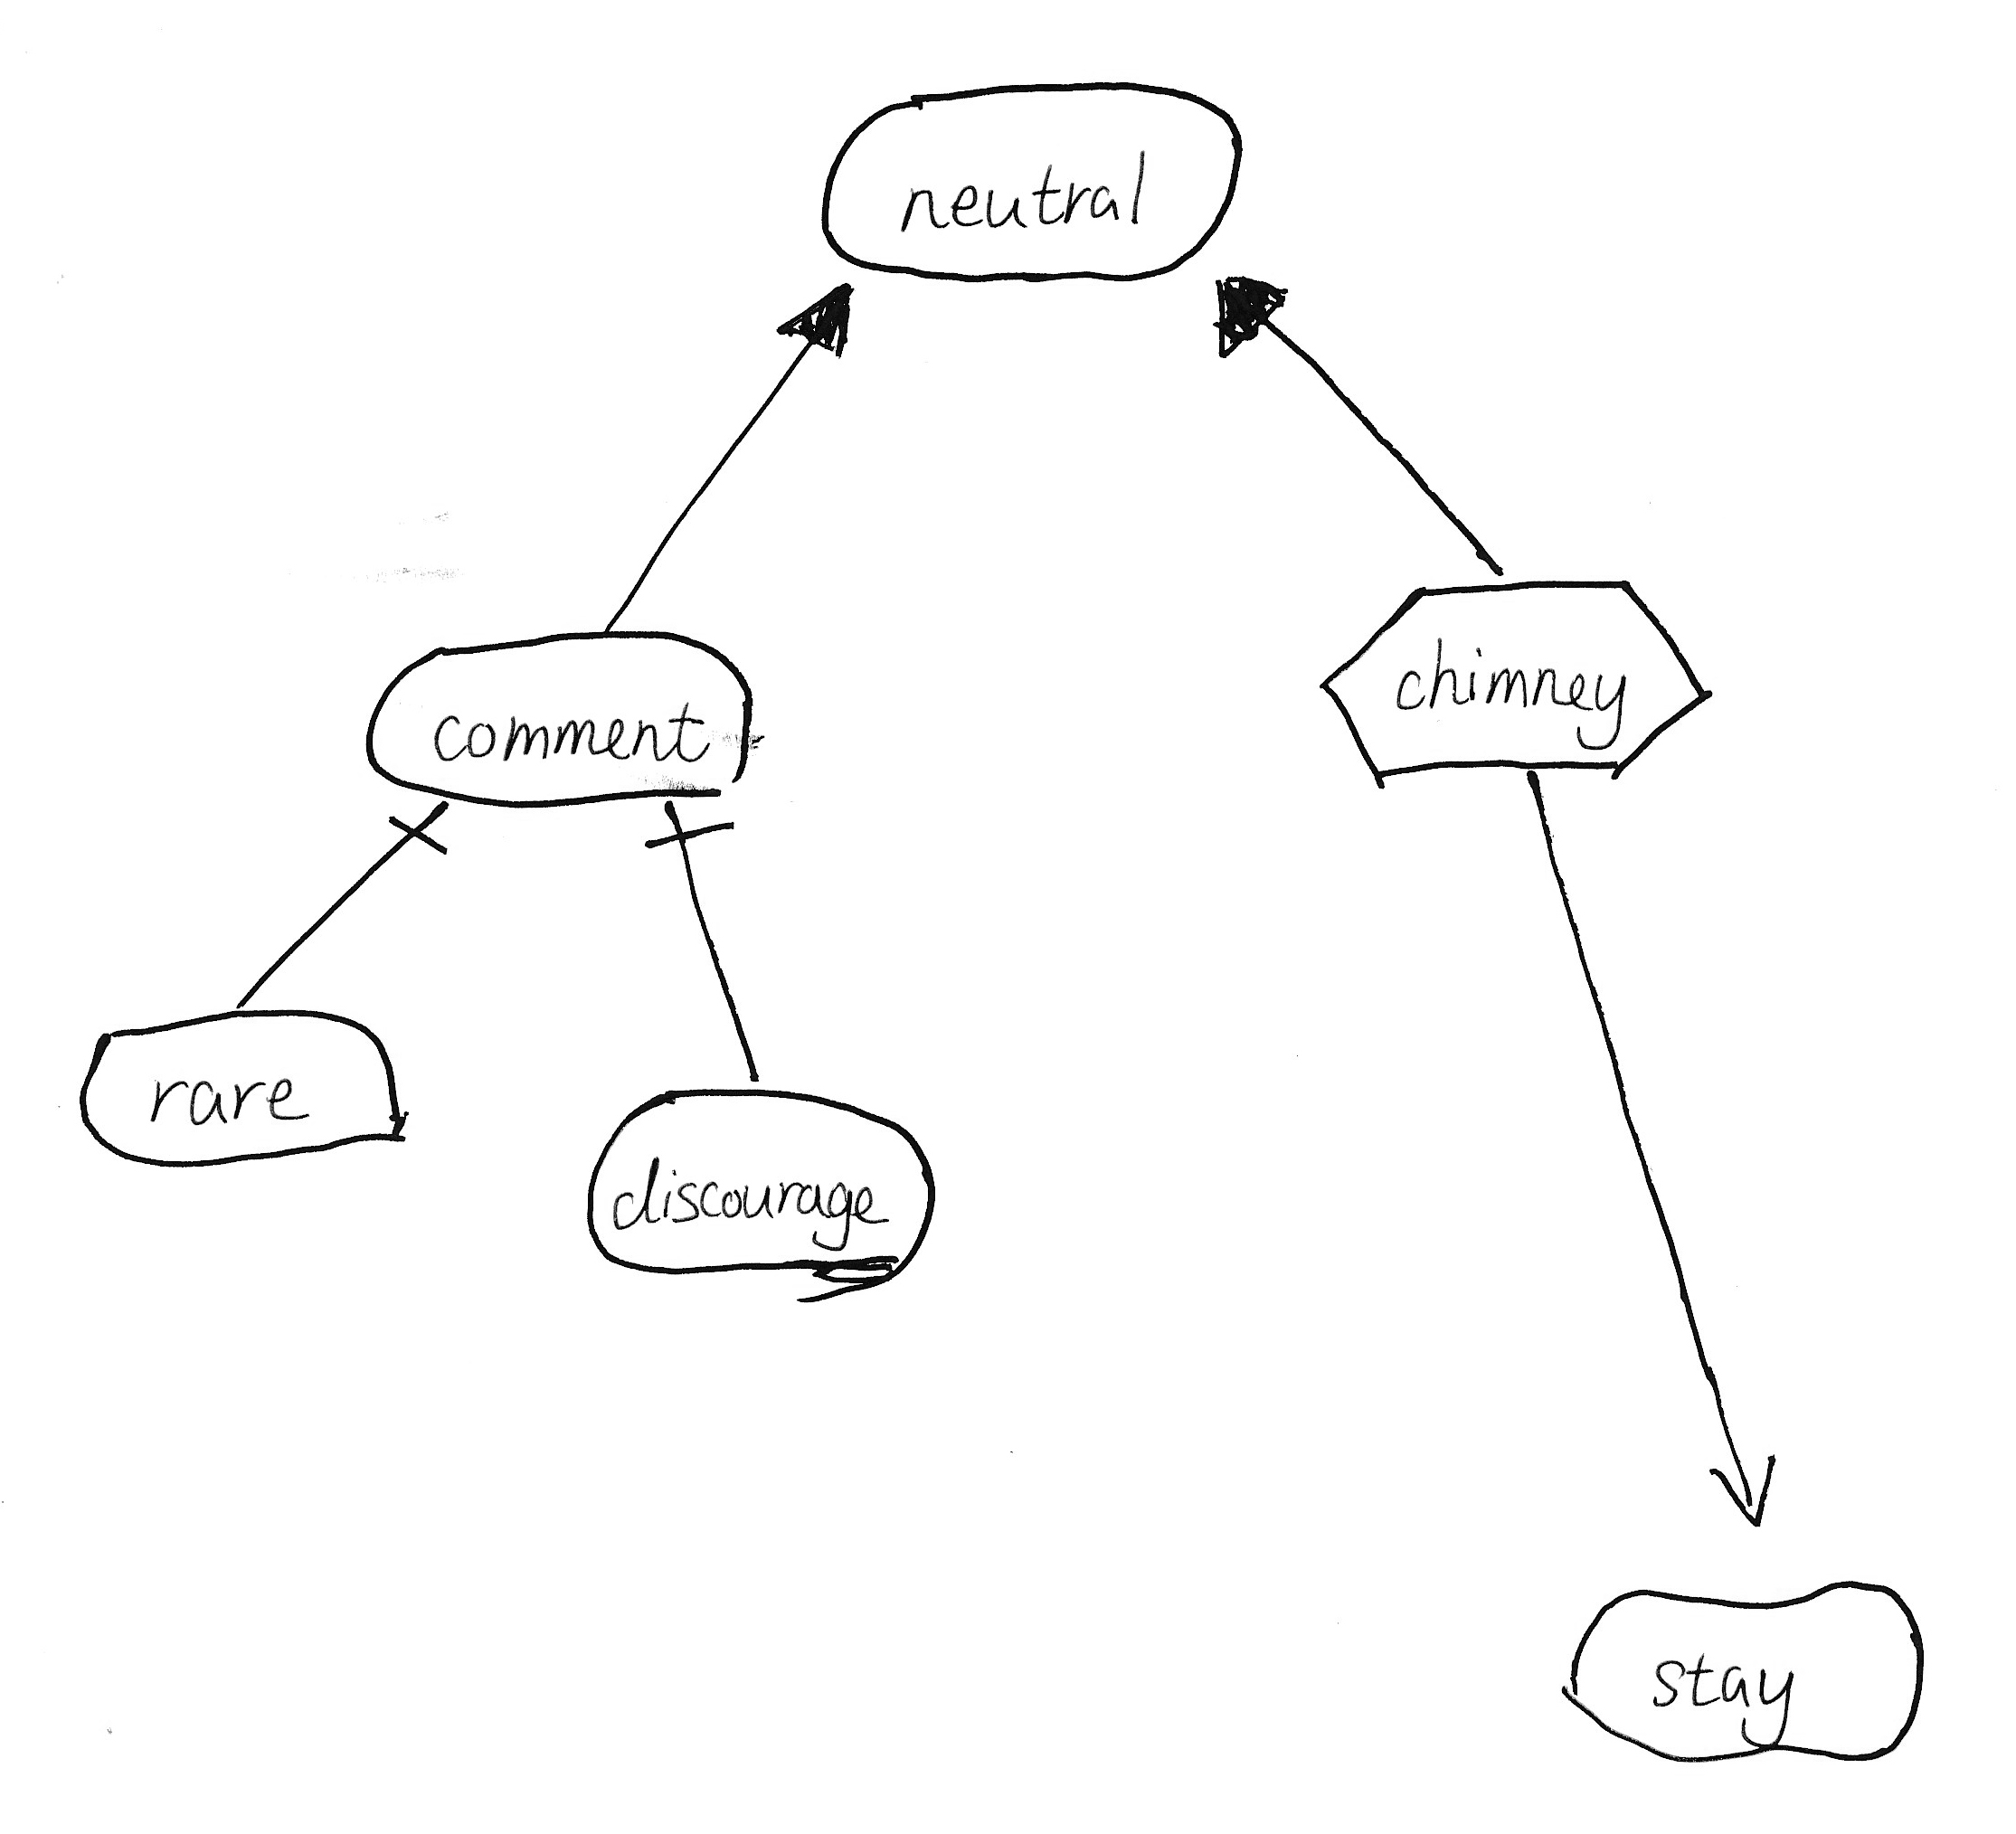and: (625, 796, 746, 871), (372, 799, 465, 885)
arrow: (1689, 1442, 1800, 1541)
goal: (803, 65, 1257, 293), (572, 1070, 947, 1316), (348, 615, 767, 822), (65, 998, 423, 1181)
or: (1196, 260, 1305, 371), (771, 267, 869, 374)
quality: (1551, 1567, 1937, 1778)
task: (1301, 567, 1724, 805)
